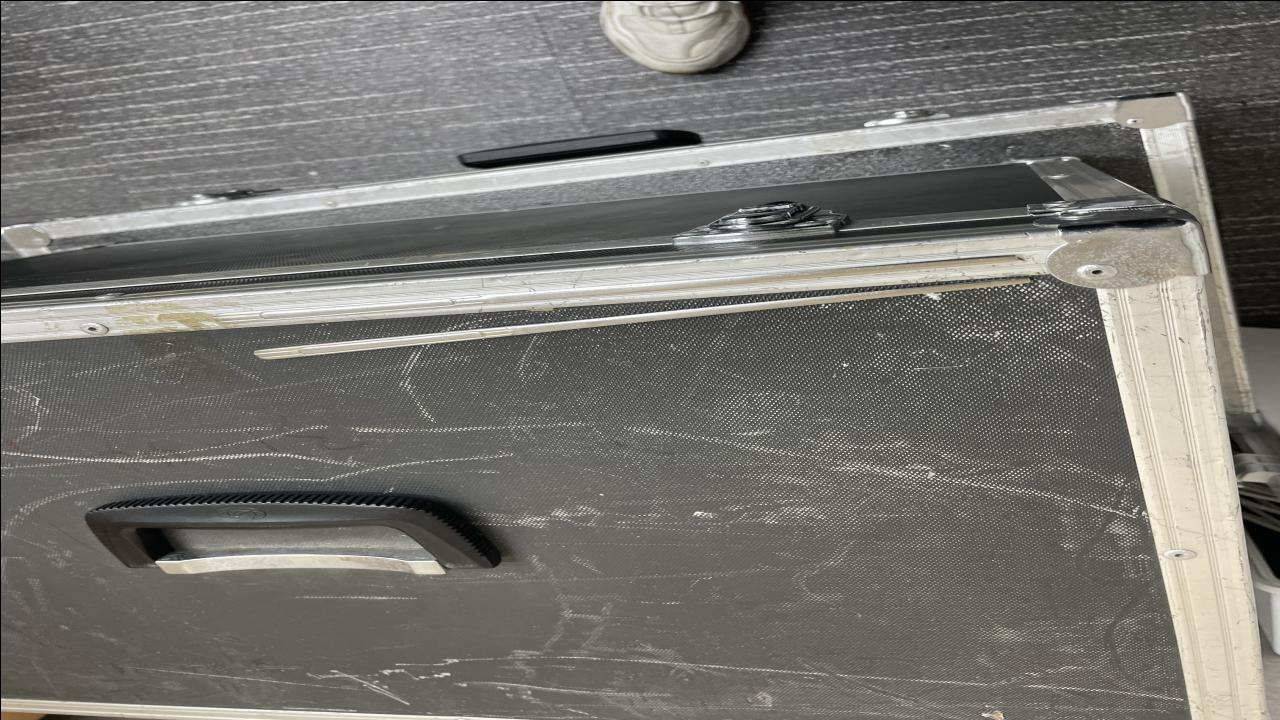chopstick: (222, 254, 1032, 360)
